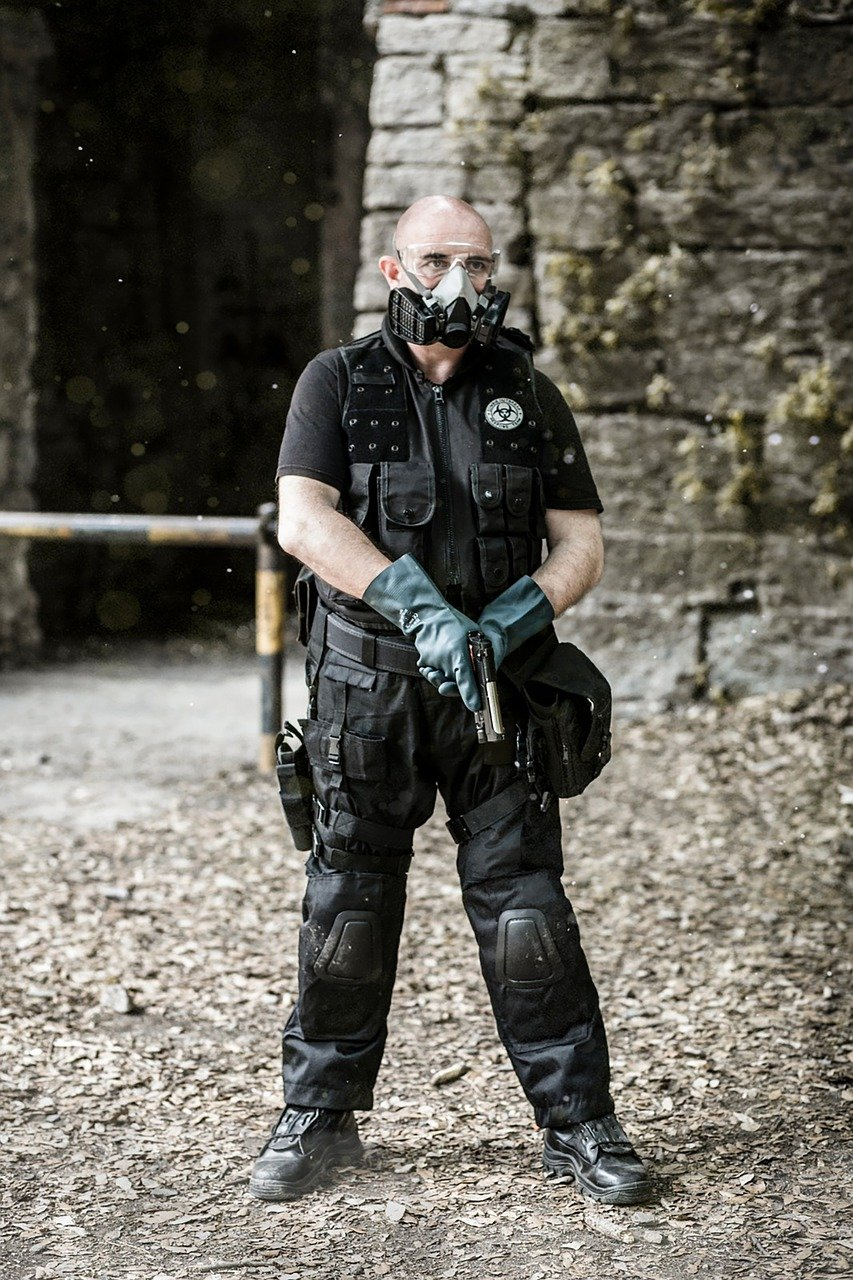gun: (417, 621, 512, 751)
